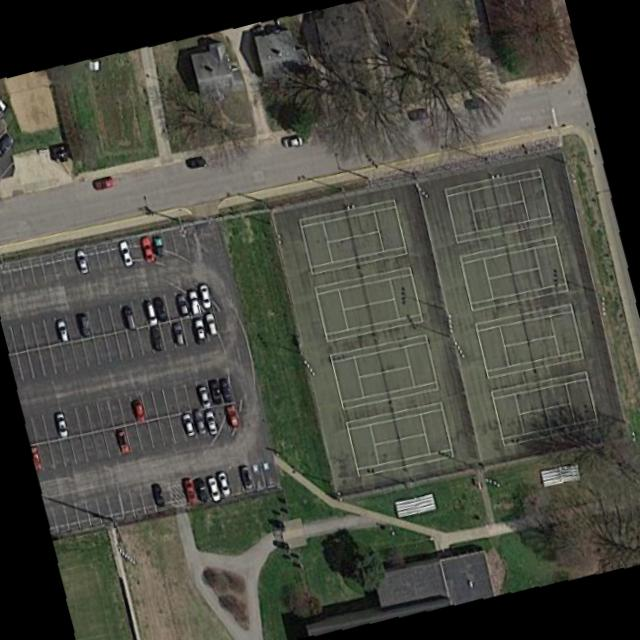small-vehicle: (214, 467, 233, 496), (191, 406, 208, 436), (180, 410, 198, 438), (204, 473, 222, 500), (203, 408, 220, 436), (139, 234, 156, 262), (74, 246, 90, 275), (54, 408, 70, 436), (186, 286, 202, 314), (192, 475, 209, 501), (143, 298, 159, 325), (280, 130, 304, 148), (206, 377, 222, 404), (181, 476, 198, 501), (151, 294, 168, 319), (131, 396, 147, 422), (196, 281, 212, 307), (203, 310, 219, 336), (196, 382, 212, 407), (0, 131, 16, 156), (151, 480, 166, 506), (238, 463, 253, 489), (225, 402, 240, 428), (217, 375, 232, 401), (149, 324, 164, 350), (192, 316, 206, 343), (122, 304, 136, 330), (116, 427, 130, 452), (171, 320, 185, 345), (406, 105, 429, 120), (90, 175, 114, 189), (77, 311, 91, 334), (152, 233, 165, 256), (57, 316, 69, 340), (464, 93, 484, 107), (183, 155, 206, 167), (176, 292, 189, 313), (0, 97, 6, 112)
